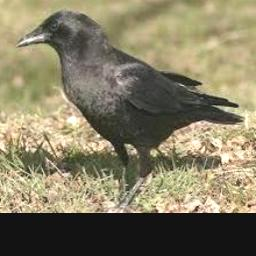Crow: (16, 9, 242, 213)
